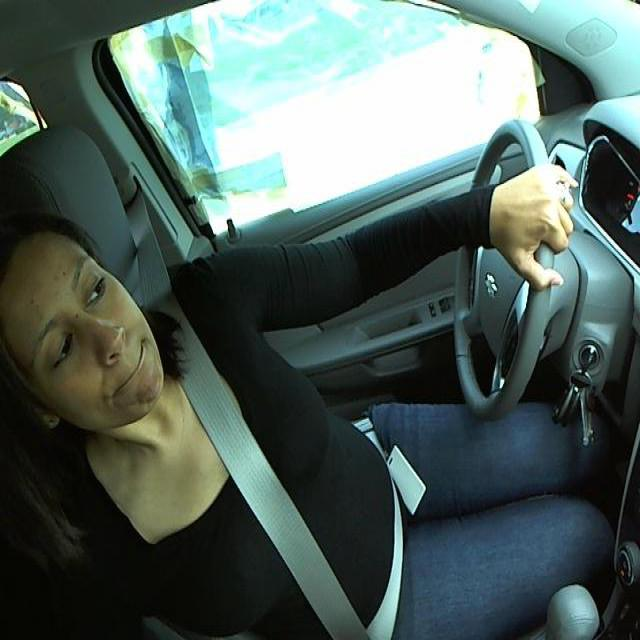seatbelt: (140, 306, 372, 638)
